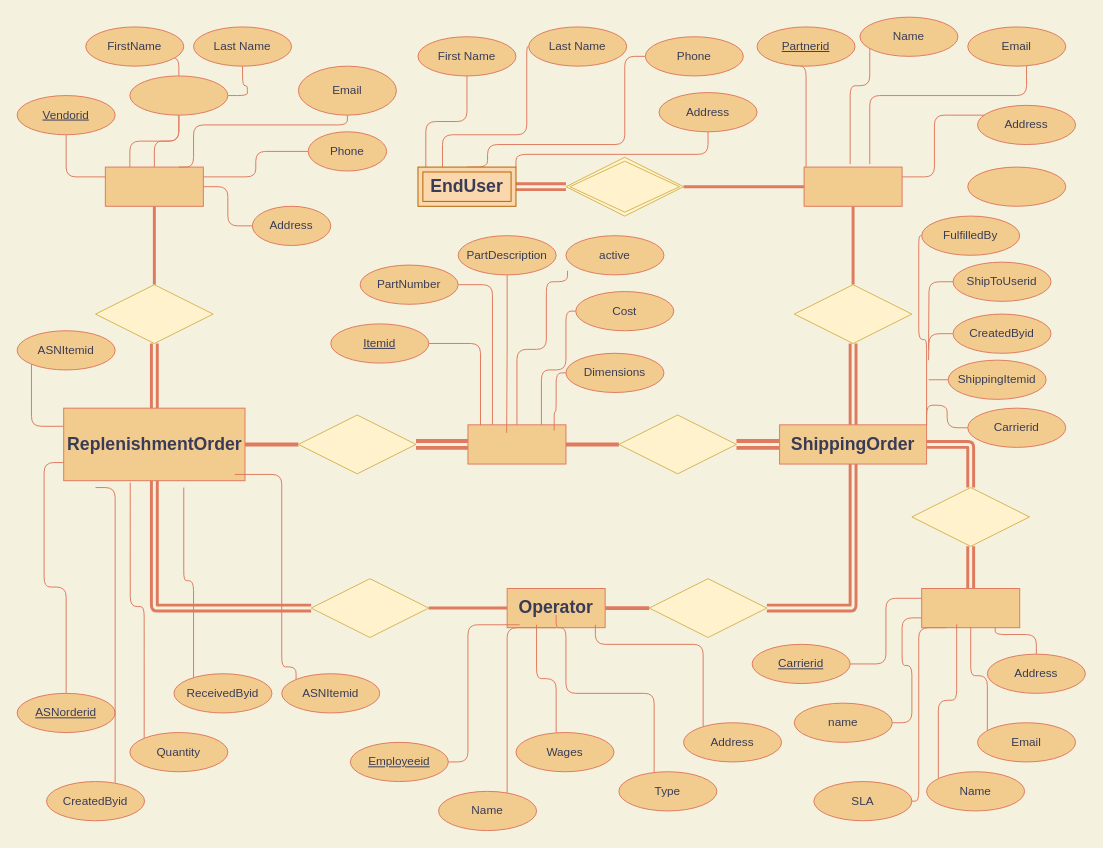
The diagram is 1103 pixels wide and 848 high, and some of its shapes have lost their labels. The shapes that lost their labels are listed below. From the top down, each one's box as (x1, y1, x2, y2) in pixels, then its label:
(129, 75, 228, 115): Contact Person
(104, 166, 203, 206): Supplier
(565, 156, 684, 216): Orders
(803, 166, 902, 206): Partner
(967, 166, 1066, 206): ShippingOrderid
(95, 284, 213, 343): Sends
(793, 284, 912, 343): Creates
(297, 414, 416, 474): adds
(467, 424, 566, 464): Stock
(618, 414, 736, 474): uses
(911, 487, 1029, 546): transports
(310, 578, 429, 637): Receives
(648, 578, 767, 637): fulfills
(921, 588, 1020, 628): Carrier
